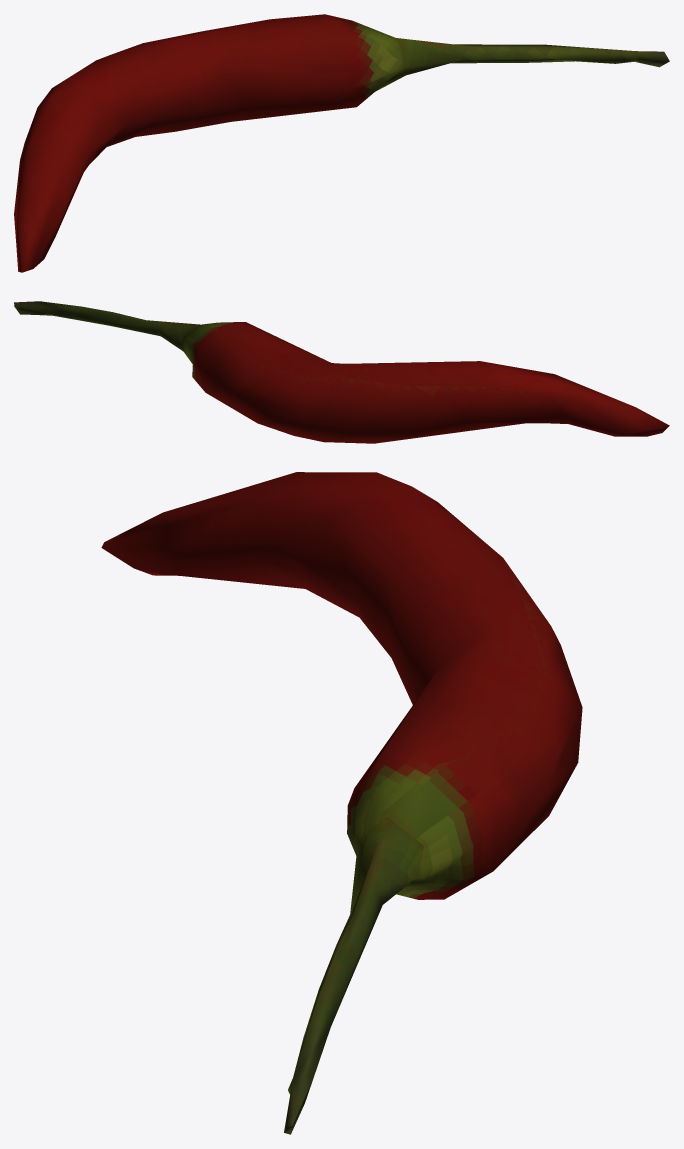
File: ref_pepperfresh.glb
The picture shows the model from 3 angles, top to bottom: view 1: azimuth 30°, elevation 25°; view 2: azimuth 150°, elevation 25°; view 3: azimuth 270°, elevation 25°; orthographic projection. The views are drawn at different scales.
Visible parts, largest first — view 1: ref_pepperfresh; view 2: ref_pepperfresh; view 3: ref_pepperfresh.
Boxes of the visible parts, x1,y1,x2,y2 form: ref_pepperfresh: (14, 14, 669, 272); ref_pepperfresh: (14, 301, 669, 443); ref_pepperfresh: (101, 472, 582, 1134).
Bounding box in the file's own units: 1 × 0.1428 × 0.3412.
1 material, 1 textured.
